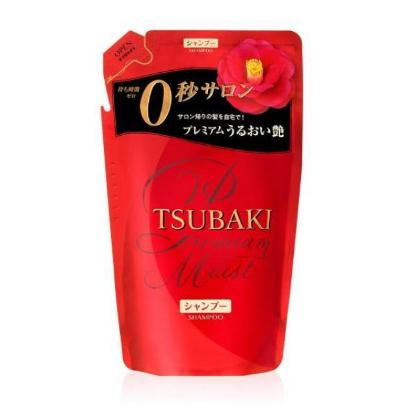Plastic Packaging: (95, 26, 306, 382)
